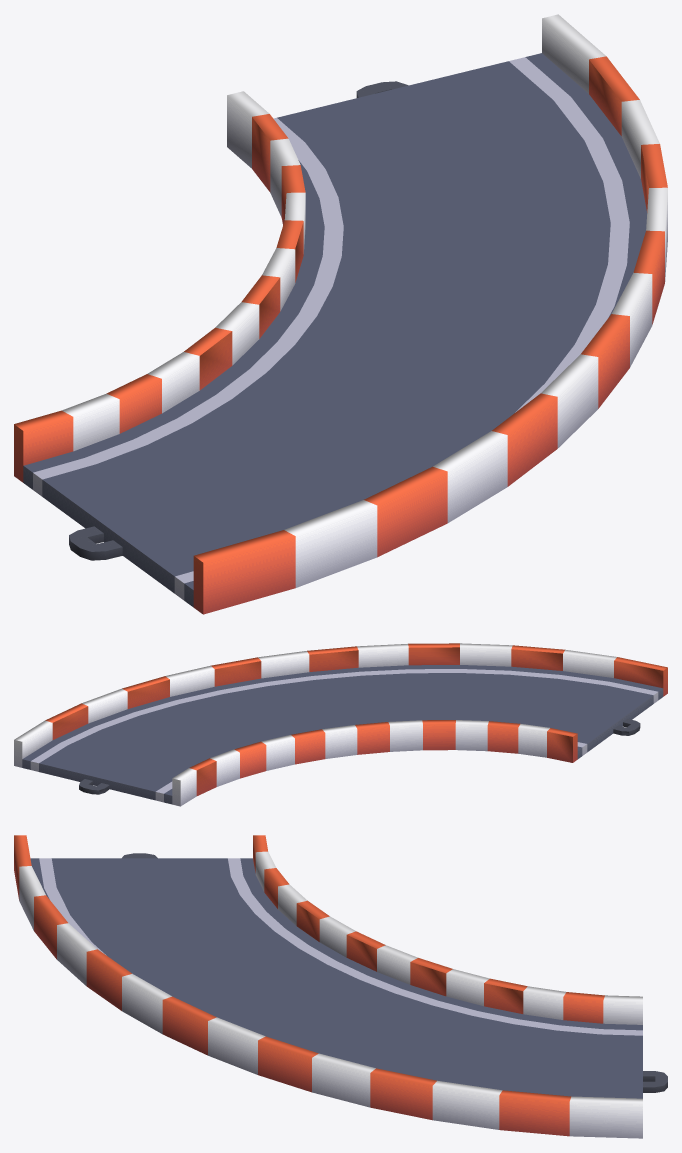
The model's file is track-road-wide-corner-large_lev1.glb.
3 renders of one model, top to bottom at view 1: azimuth 30°, elevation 25°; view 2: azimuth 150°, elevation 25°; view 3: azimuth 270°, elevation 25°, orthographic. The views are drawn at different scales.
Parts seen in each view (by area): view 1: track-road-wide-corner-large_lev1; view 2: track-road-wide-corner-large_lev1; view 3: track-road-wide-corner-large_lev1.
Part boxes in pixels (x1,y1,x2,y2): track-road-wide-corner-large_lev1: [14, 14, 667, 614]; track-road-wide-corner-large_lev1: [14, 643, 667, 806]; track-road-wide-corner-large_lev1: [14, 835, 667, 1138].
Size of the model in its own units: 5.2 by 0.3 by 5.14.
Materials: 1 (1 with a texture image).
